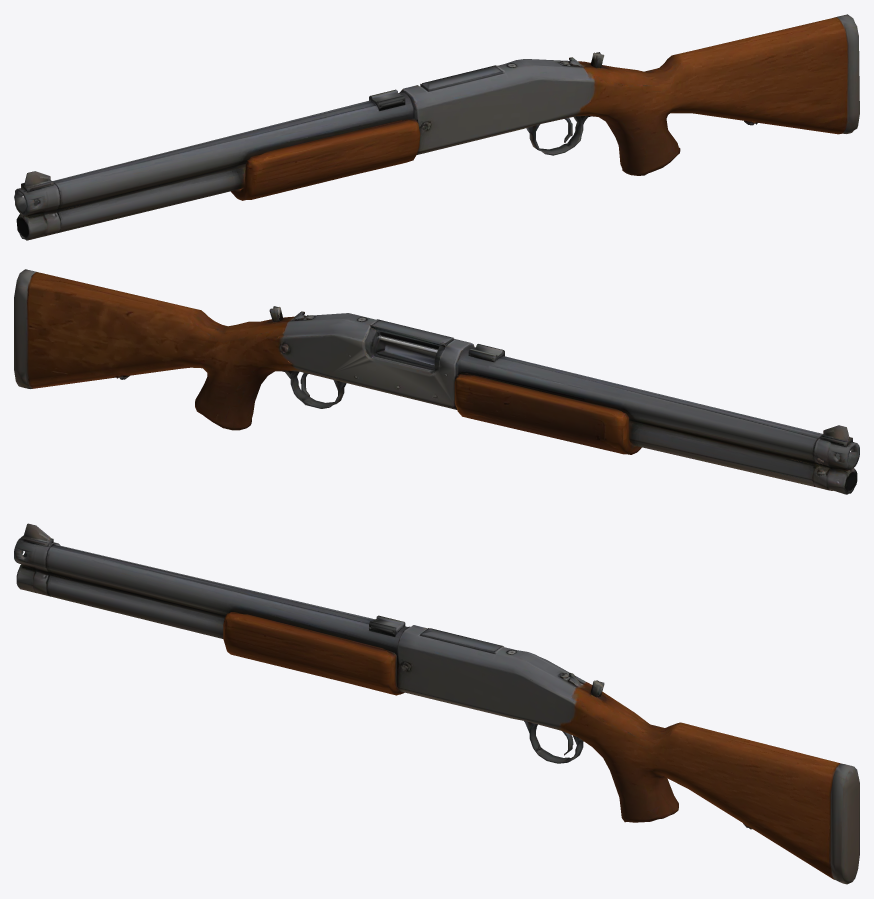
The model's file is shotgun.glb.
The picture shows the model from 3 angles, top to bottom: view 1: azimuth 30°, elevation 25°; view 2: azimuth 150°, elevation 25°; view 3: azimuth 330°, elevation 25°; orthographic projection.
Parts seen in each view (by area): view 1: shotgun; view 2: shotgun; view 3: shotgun.
Boxes of the visible parts, x1,y1,x2,y2 form: shotgun: (14,14,859,240); shotgun: (14,269,859,494); shotgun: (14,523,859,884).
Bounding box in the file's own units: 4.67 × 0.85 × 0.3016.
Materials: 1 (1 with a texture image).
